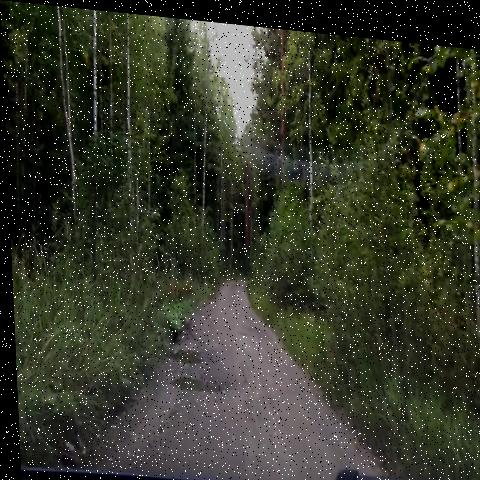pothole: (161, 355, 230, 405), (160, 327, 207, 372)
